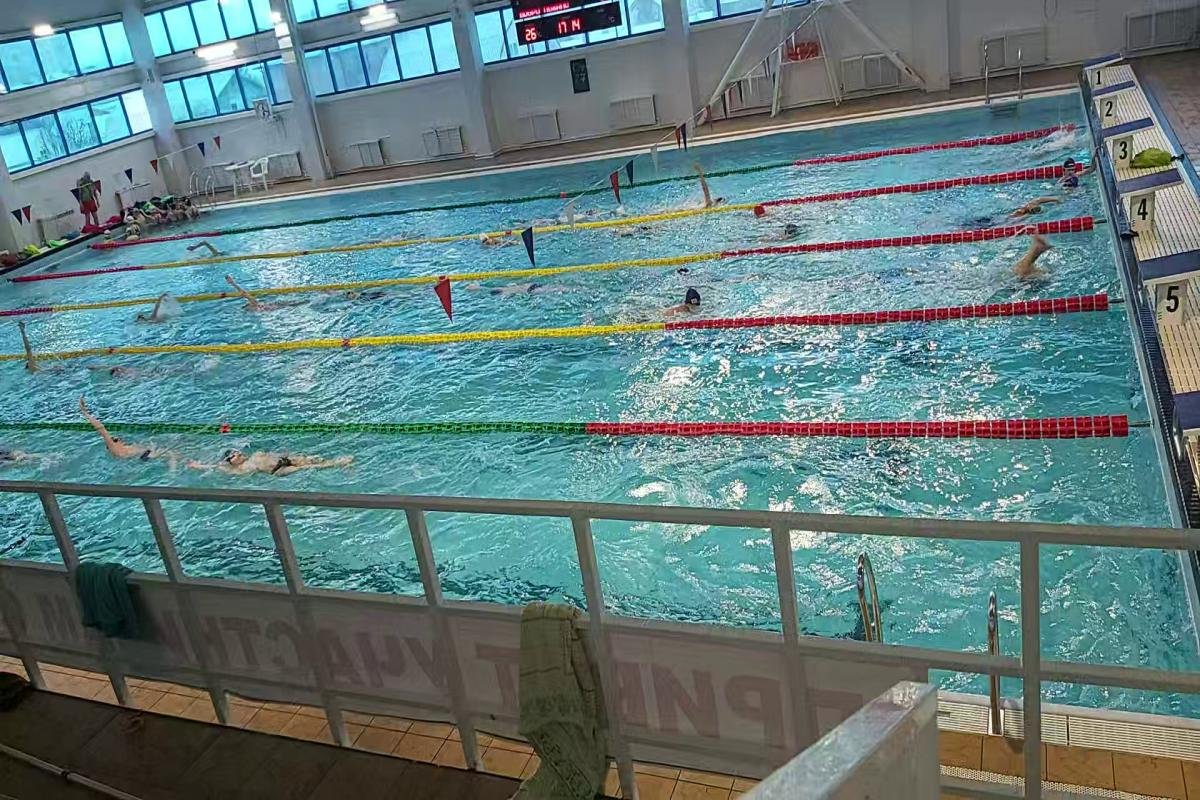swimmer: (65, 399, 180, 468), (188, 437, 362, 480), (6, 321, 70, 379), (220, 272, 301, 310), (470, 278, 580, 300), (650, 285, 724, 313), (974, 202, 1061, 225), (90, 357, 158, 382), (338, 284, 421, 304), (748, 222, 814, 246), (686, 171, 726, 206), (133, 297, 176, 324), (189, 240, 237, 256)
